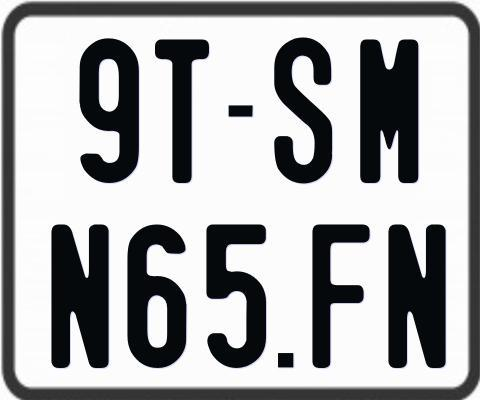5: (205, 223, 271, 369)
6: (125, 222, 190, 371)
9: (76, 38, 140, 188)
F: (311, 224, 374, 369)
M: (358, 38, 421, 185)
N: (387, 224, 445, 374), (49, 222, 107, 368)
S: (272, 35, 331, 185)
T: (152, 37, 209, 183)
